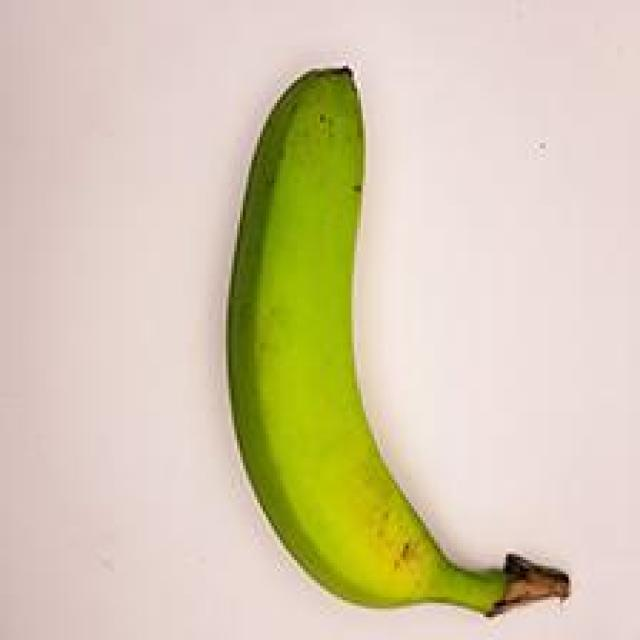Unripe: (195, 43, 590, 630)
